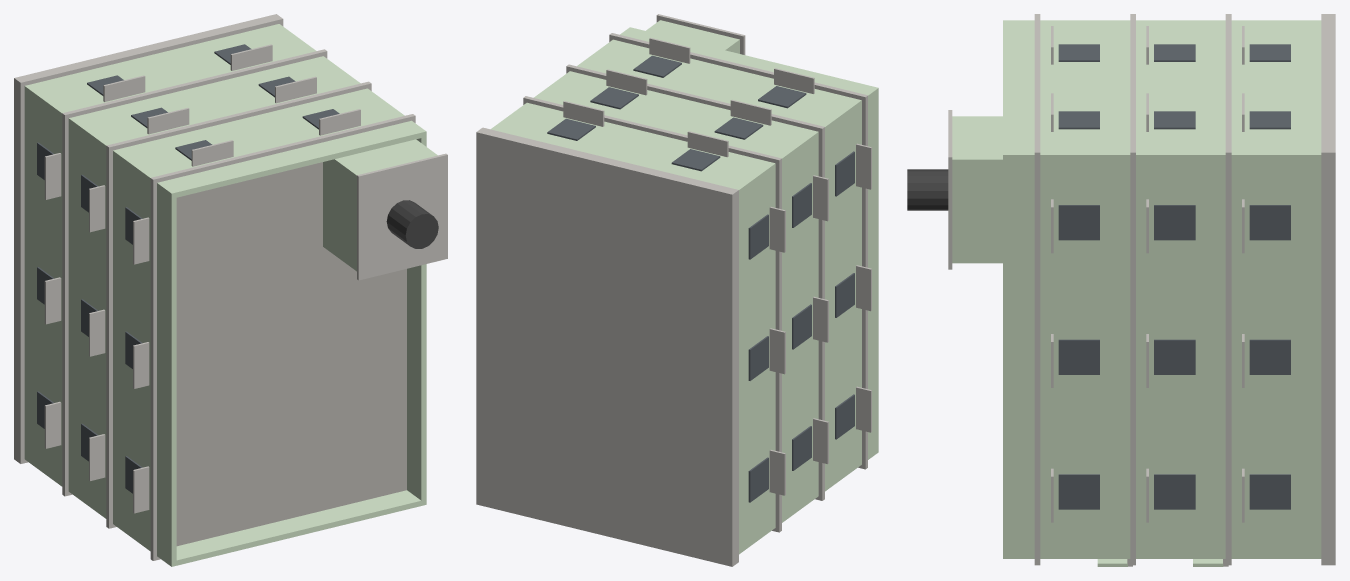
The model's file is house_3f_green.glb.
3 views of the same model, side by side, from view 1: azimuth 30°, elevation 25°; view 2: azimuth 150°, elevation 25°; view 3: azimuth 270°, elevation 25° (orthographic). The views are drawn at different scales.
Parts seen in each view (by area): view 1: green, roof, concrete, glass, tank; view 2: concrete, green, glass; view 3: green, concrete, glass, tank.
Part boxes in pixels (x1,y1,x2,y2): green: [24, 24, 437, 566]; roof: [176, 162, 406, 546]; concrete: [14, 14, 447, 560]; glass: [37, 44, 339, 493]; tank: [386, 200, 438, 248]; concrete: [476, 14, 871, 566]; green: [491, 20, 878, 554]; glass: [547, 55, 854, 502]; green: [952, 20, 1321, 566]; concrete: [948, 14, 1335, 566]; glass: [1058, 44, 1290, 509]; tank: [907, 169, 948, 210].
Size of the model in its own units: 11.2 by 15.81 by 13.45.
